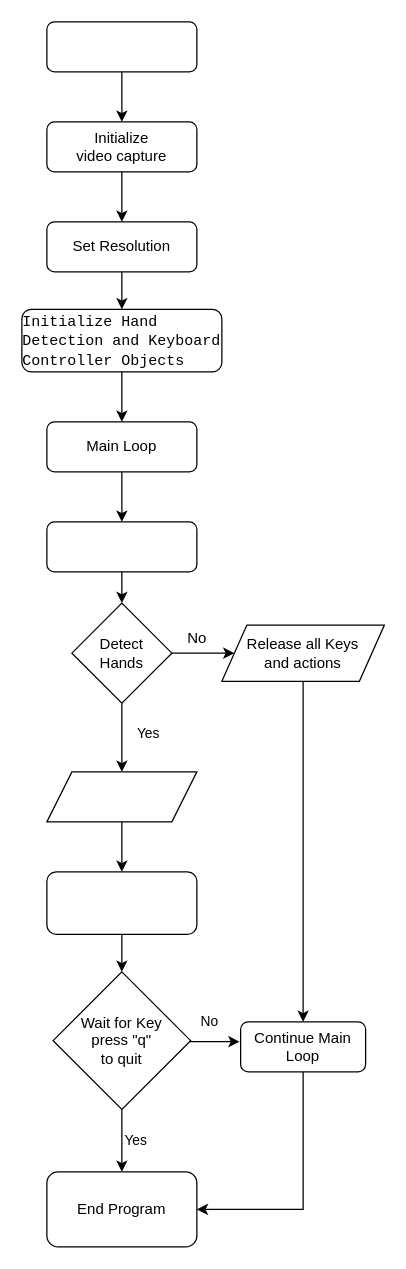
This 406x1269 diagram has some shape labels left out. The centre of each missing label's shape, as x and y in pixels:
"Identify Finger Positions" goes at (121,796).
"Read Frame" goes at (121,546).
"Run .py File" goes at (121,46).
"Simulate Key Presses and Releases" goes at (121,902).
